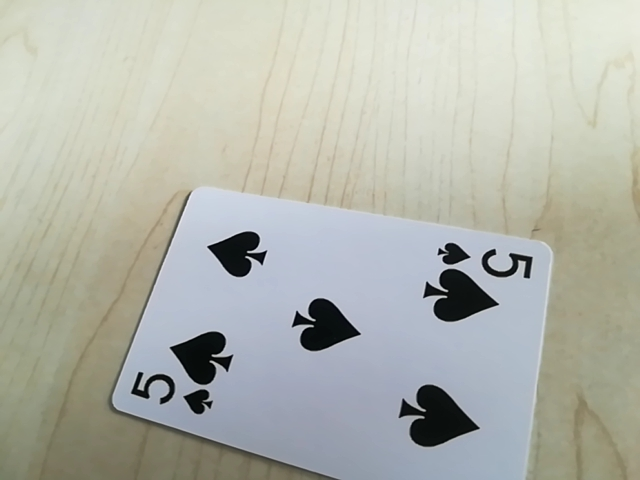ht 5: (121, 373, 225, 418), (436, 238, 537, 276)
